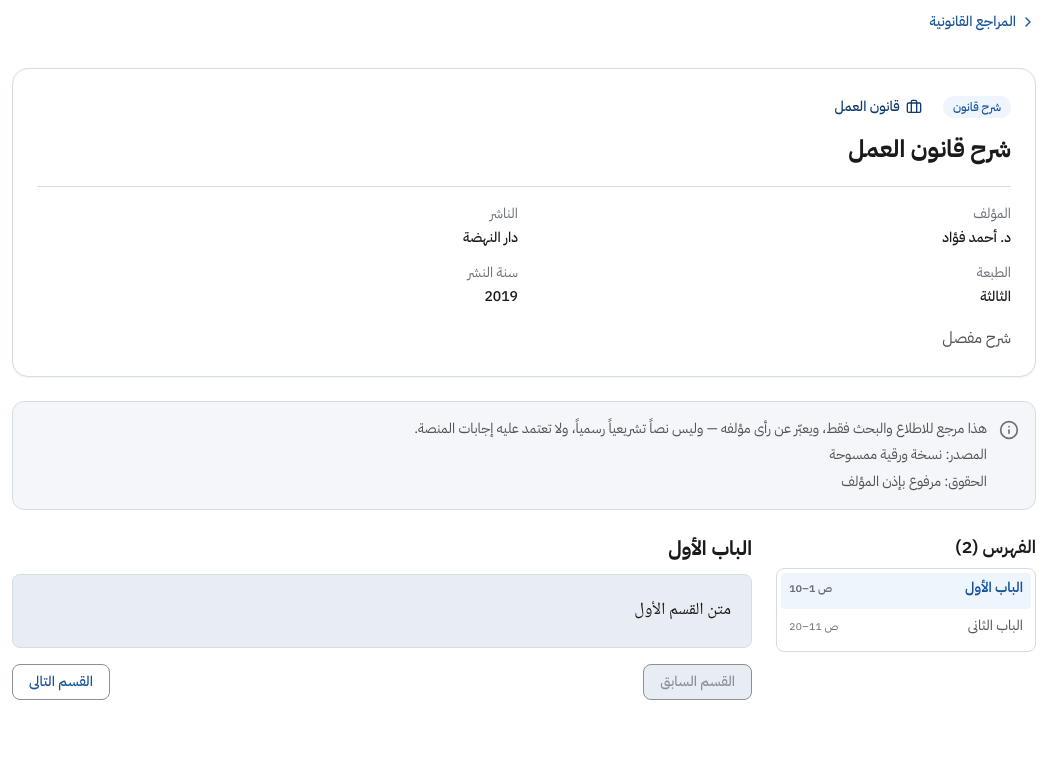
Test case: ReferenceDetailScreen › التنقل بين الأقسام بالأزرار وبالفهرس، وتعطيل السابق فى أول قسم
Expected: the text "متن القسم الأول" is shown, x1=12 y1=574 x2=752 y2=648
Expected: the button "القسم السابق" is disabled, x1=643 y1=664 x2=752 y2=700
Click the button "القسم التالى" at coordinates (61, 682), box x1=12 y1=664 x2=110 y2=700
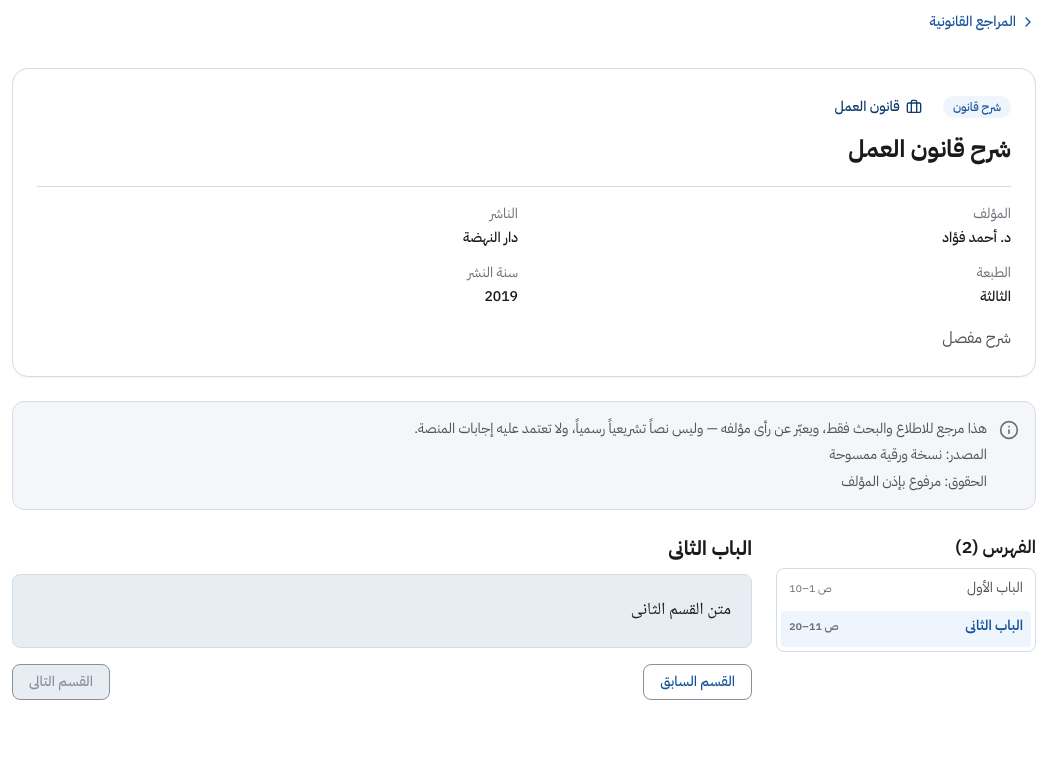
Now the text "متن القسم الثانى" is shown, box x1=12 y1=574 x2=752 y2=648
Now the button "القسم التالى" is disabled, box x1=12 y1=664 x2=110 y2=700
Click the button "الباب الأول ص 1–10" at coordinates (906, 591), box x1=781 y1=573 x2=1031 y2=609
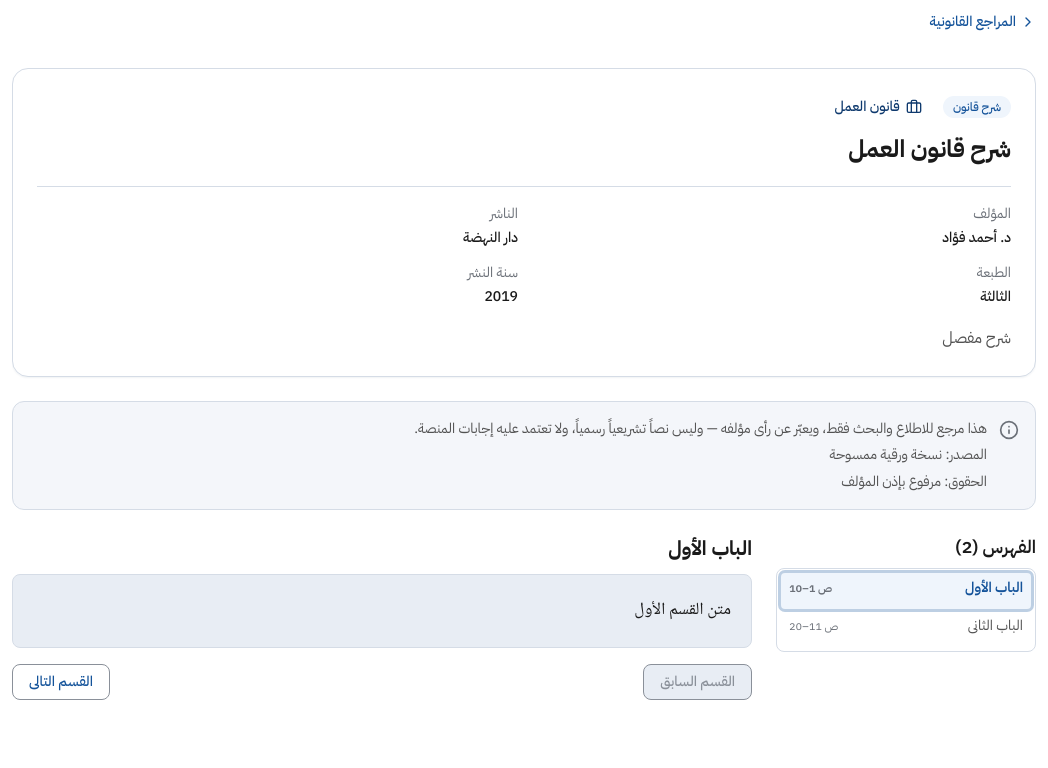
Now the text "متن القسم الأول" is shown, box x1=12 y1=574 x2=752 y2=648
